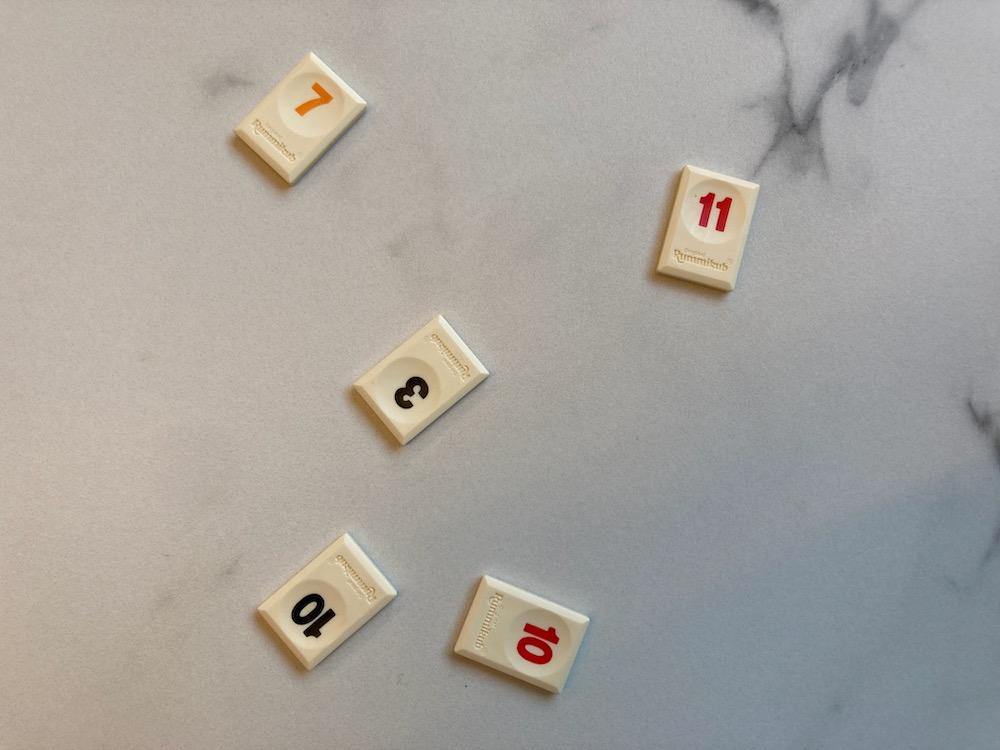black_10: (258, 533, 396, 670)
black_3: (354, 314, 488, 443)
orange_7: (236, 53, 367, 184)
red_10: (455, 576, 590, 693)
red_11: (656, 164, 760, 291)
